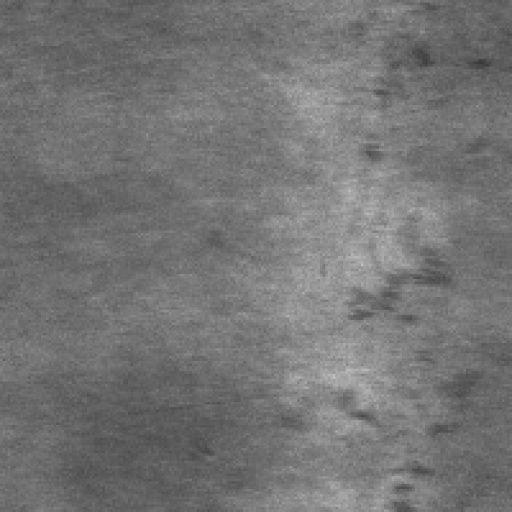rolled_in_scale: (316, 204, 487, 509), (332, 6, 503, 171)
